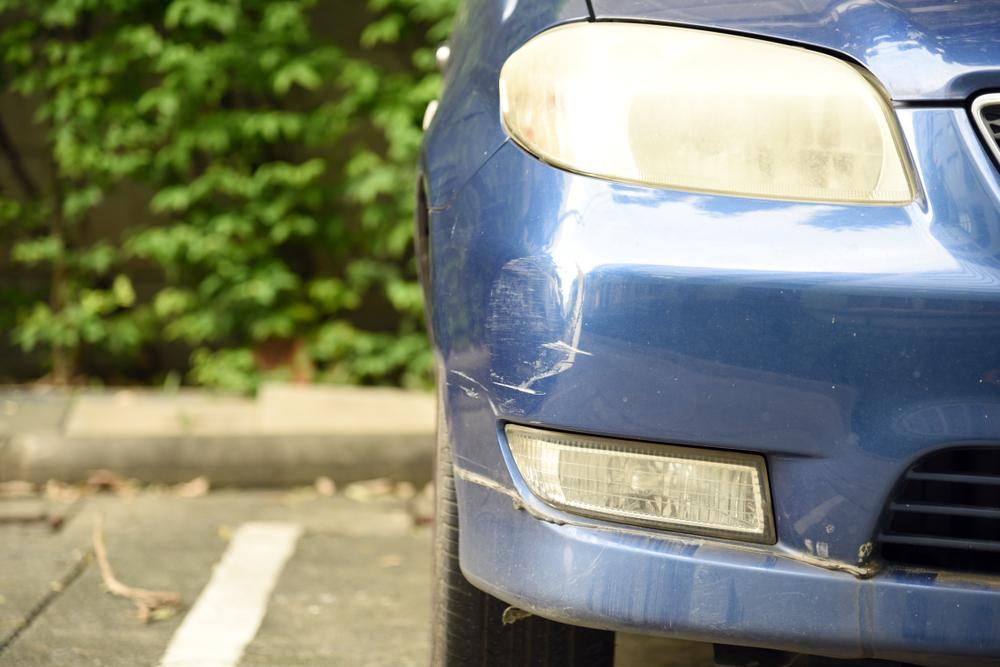scratch: (452, 244, 597, 406)
